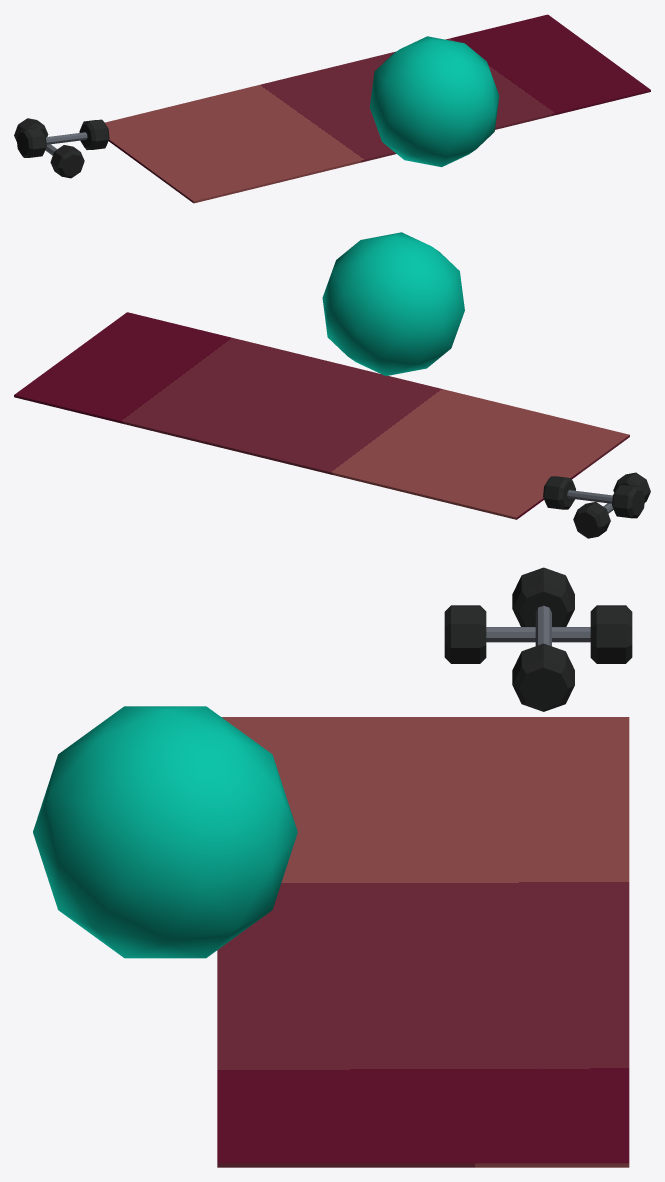
File: Accesories_Yoga.glb
3 renders of one model, top to bottom at view 1: azimuth 30°, elevation 25°; view 2: azimuth 150°, elevation 25°; view 3: azimuth 270°, elevation 25°, orthographic. The views are drawn at different scales.
Parts seen in each view (by area): view 1: Accesories_Yoga; view 2: Accesories_Yoga; view 3: Accesories_Yoga.
Part boxes in pixels (x1,y1,x2,y2): Accesories_Yoga: (14, 14, 650, 203); Accesories_Yoga: (14, 232, 650, 538); Accesories_Yoga: (33, 567, 632, 1167).
Size of the model in its own units: 1.98 by 0.4232 by 0.937.
Materials: 1 (1 with a texture image).
